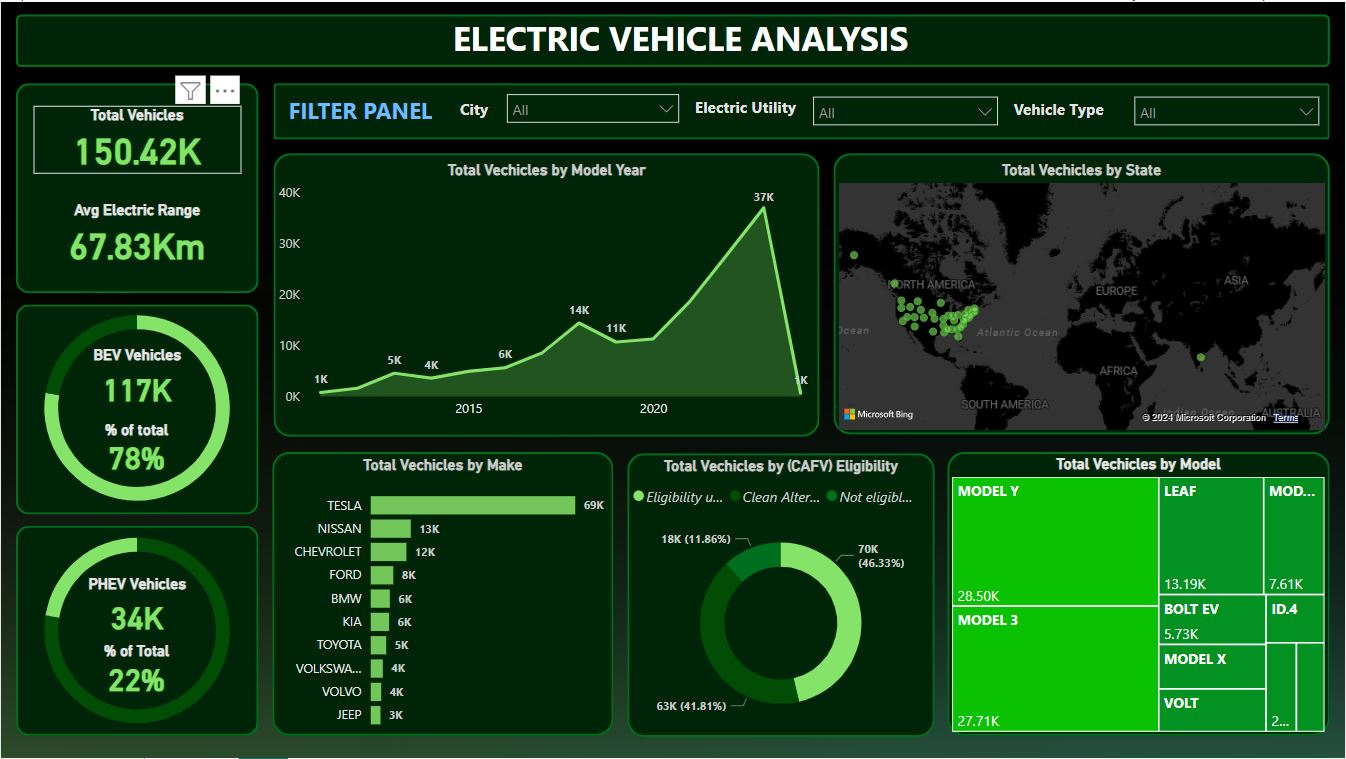

The page's visual inventory and layout, read from the dashboard file:
{"tool":"powerbi","page":{"name":"Page 1","canvas":[1280,720],"ordinal":0},"visuals":[{"type":"shape","box":[14.3,11.9,1251.2,50],"z":0},{"type":"textbox","box":[14.3,7.1,1265.5,58.3],"z":1000},{"type":"shape","box":[14.3,77.4,231,200],"z":2000},{"type":"card","title":"Total Vehicles","fields":{"Values":["Electric_Vehicle_Population_Data.Total Vechicles"]},"box":[31,98.8,197.6,64.3],"z":3000},{"type":"card","title":"Avg Electric Range","fields":{"Values":["Electric_Vehicle_Population_Data.Avg Range"]},"box":[22.6,189.3,214.3,64.3],"z":4000},{"type":"shape","box":[14.3,288.1,231,200],"z":5000},{"type":"shape","box":[14.3,498.8,231,200],"z":6000},{"type":"donutChart","fields":{"Category":["Electric_Vehicle_Population_Data.Electric Vehicle Type"],"Y":["Electric_Vehicle_Population_Data.Total Vechicles"]},"box":[0,271.4,259.5,231],"z":7000},{"type":"card","title":"BEV Vehicles","fields":{"Values":["Electric_Vehicle_Population_Data.BEV Vehicles"]},"box":[22.6,327.4,214.3,64.3],"z":8000},{"type":"card","title":"% of total","fields":{"Values":["Electric_Vehicle_Population_Data.% of BEV"]},"box":[50,398.8,158.3,52.4],"z":9000},{"type":"donutChart","fields":{"Category":["Electric_Vehicle_Population_Data.Electric Vehicle Type"],"Y":["Electric_Vehicle_Population_Data.Total Vechicles"]},"box":[0,483.3,259.5,231],"z":10000},{"type":"card","title":"PHEV Vehicles","fields":{"Values":["Electric_Vehicle_Population_Data.PHEV Vehicles"]},"box":[22.6,545.2,214.3,64.3],"z":11000},{"type":"card","title":"% of Total","fields":{"Values":["Electric_Vehicle_Population_Data.% of PHEV"]},"box":[50,609.5,158.3,52.4],"z":12000},{"type":"shape","box":[259.5,77.4,1006,53.6],"z":13000},{"type":"shape","box":[259.5,144,520,270],"z":14000},{"type":"areaChart","fields":{"Category":["Electric_Vehicle_Population_Data.Model Year"],"Y":["Electric_Vehicle_Population_Data.Total Vechicles"]},"box":[259.5,151.2,520.2,254.8],"z":15000},{"type":"shape","box":[792.9,144,472.6,267.9],"z":16000},{"type":"map","fields":{"Category":["Electric_Vehicle_Population_Data.State"]},"box":[792.9,151.2,472.6,260.7],"z":17000},{"type":"shape","box":[258.3,428.6,325,270.2],"z":18000},{"type":"barChart","fields":{"Y":["Electric_Vehicle_Population_Data.Total Vechicles"],"Category":["Electric_Vehicle_Population_Data.Make"]},"box":[258.3,432.1,325,270.2],"z":19000},{"type":"shape","box":[596.4,429.8,292.9,270.2],"z":20000},{"type":"donutChart","title":"Total Vechicles by (CAFV) Eligibility","fields":{"Category":["Electric_Vehicle_Population_Data.Clean Alternative Fuel Vehicle (CAFV) Eligibility"],"Y":["Electric_Vehicle_Population_Data.Total Vechicles"]},"box":[596.4,433.3,292.9,270.2],"z":21000},{"type":"shape","box":[901.2,428.6,364.3,270.2],"z":22000},{"type":"treemap","fields":{"Group":["Electric_Vehicle_Population_Data.Model"],"Values":["Electric_Vehicle_Population_Data.Total Vechicles"]},"box":[901.2,431,364.3,269],"z":23000},{"type":"textbox","box":[269,83.3,163.1,44],"z":24000},{"type":"textbox","box":[432.1,86.9,50,34.5],"z":25000},{"type":"slicer","fields":{"Values":["Electric_Vehicle_Population_Data.City"]},"box":[471.4,77.4,184.5,47.6],"z":26000},{"type":"textbox","box":[656,84.5,132.1,34.5],"z":27000},{"type":"slicer","fields":{"Values":["Electric_Vehicle_Population_Data.Electric Utility"]},"box":[763.1,79.8,196.4,47.6],"z":28000},{"type":"textbox","box":[959.5,86.9,132.1,34.5],"z":28001},{"type":"slicer","fields":{"Values":["Electric_Vehicle_Population_Data.Electric Vehicle Type"]},"box":[1069.1,79.8,196.4,47.6],"z":28002}]}

Visuals, with their boxes in screenshot pixels (x1, y1, x2, y2), scaled from the page's 1280x720 canvas onto the 1346x759 screenshot:
shape: <region>15, 13, 1331, 65</region>
textbox: <region>15, 7, 1345, 69</region>
shape: <region>15, 82, 258, 292</region>
"Total Vehicles" card: <region>33, 104, 240, 172</region>
"Avg Electric Range" card: <region>24, 200, 249, 267</region>
shape: <region>15, 304, 258, 515</region>
shape: <region>15, 526, 258, 737</region>
donutChart - Electric_Vehicle_Population_Data.Electric Vehicle Type x Electric_Vehicle_Population_Data.Total Vechicles: <region>0, 286, 273, 530</region>
"BEV Vehicles" card: <region>24, 345, 249, 413</region>
"% of total" card: <region>53, 420, 219, 476</region>
donutChart - Electric_Vehicle_Population_Data.Electric Vehicle Type x Electric_Vehicle_Population_Data.Total Vechicles: <region>0, 509, 273, 753</region>
"PHEV Vehicles" card: <region>24, 575, 249, 643</region>
"% of Total" card: <region>53, 643, 219, 698</region>
shape: <region>273, 82, 1331, 138</region>
shape: <region>273, 152, 820, 436</region>
areaChart - Electric_Vehicle_Population_Data.Model Year x Electric_Vehicle_Population_Data.Total Vechicles: <region>273, 159, 820, 428</region>
shape: <region>834, 152, 1331, 434</region>
map - Electric_Vehicle_Population_Data.State: <region>834, 159, 1331, 434</region>
shape: <region>272, 452, 613, 737</region>
barChart - Electric_Vehicle_Population_Data.Total Vechicles x Electric_Vehicle_Population_Data.Make: <region>272, 456, 613, 740</region>
shape: <region>627, 453, 935, 738</region>
"Total Vechicles by (CAFV) Eligibility" donutChart: <region>627, 457, 935, 742</region>
shape: <region>948, 452, 1331, 737</region>
treemap - Electric_Vehicle_Population_Data.Model x Electric_Vehicle_Population_Data.Total Vechicles: <region>948, 454, 1331, 738</region>
textbox: <region>283, 88, 454, 134</region>
textbox: <region>454, 92, 507, 128</region>
slicer - Electric_Vehicle_Population_Data.City: <region>496, 82, 690, 132</region>
textbox: <region>690, 89, 829, 125</region>
slicer - Electric_Vehicle_Population_Data.Electric Utility: <region>802, 84, 1009, 134</region>
textbox: <region>1009, 92, 1148, 128</region>
slicer - Electric_Vehicle_Population_Data.Electric Vehicle Type: <region>1124, 84, 1331, 134</region>
